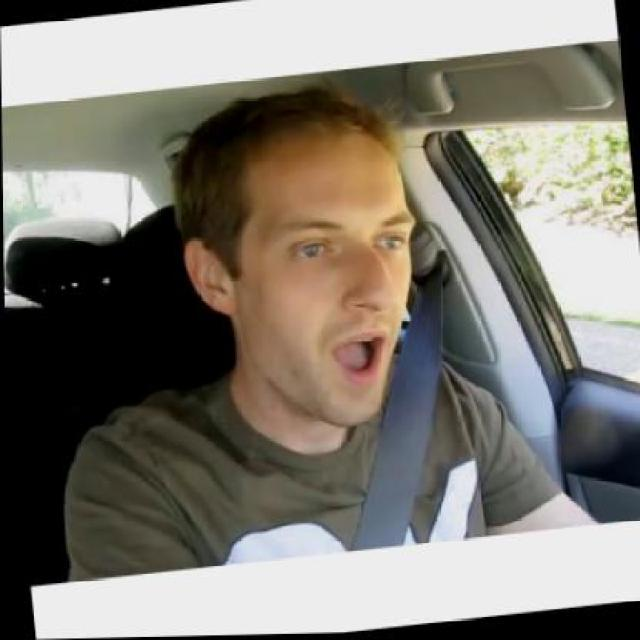inattentif: (169, 79, 434, 443)
